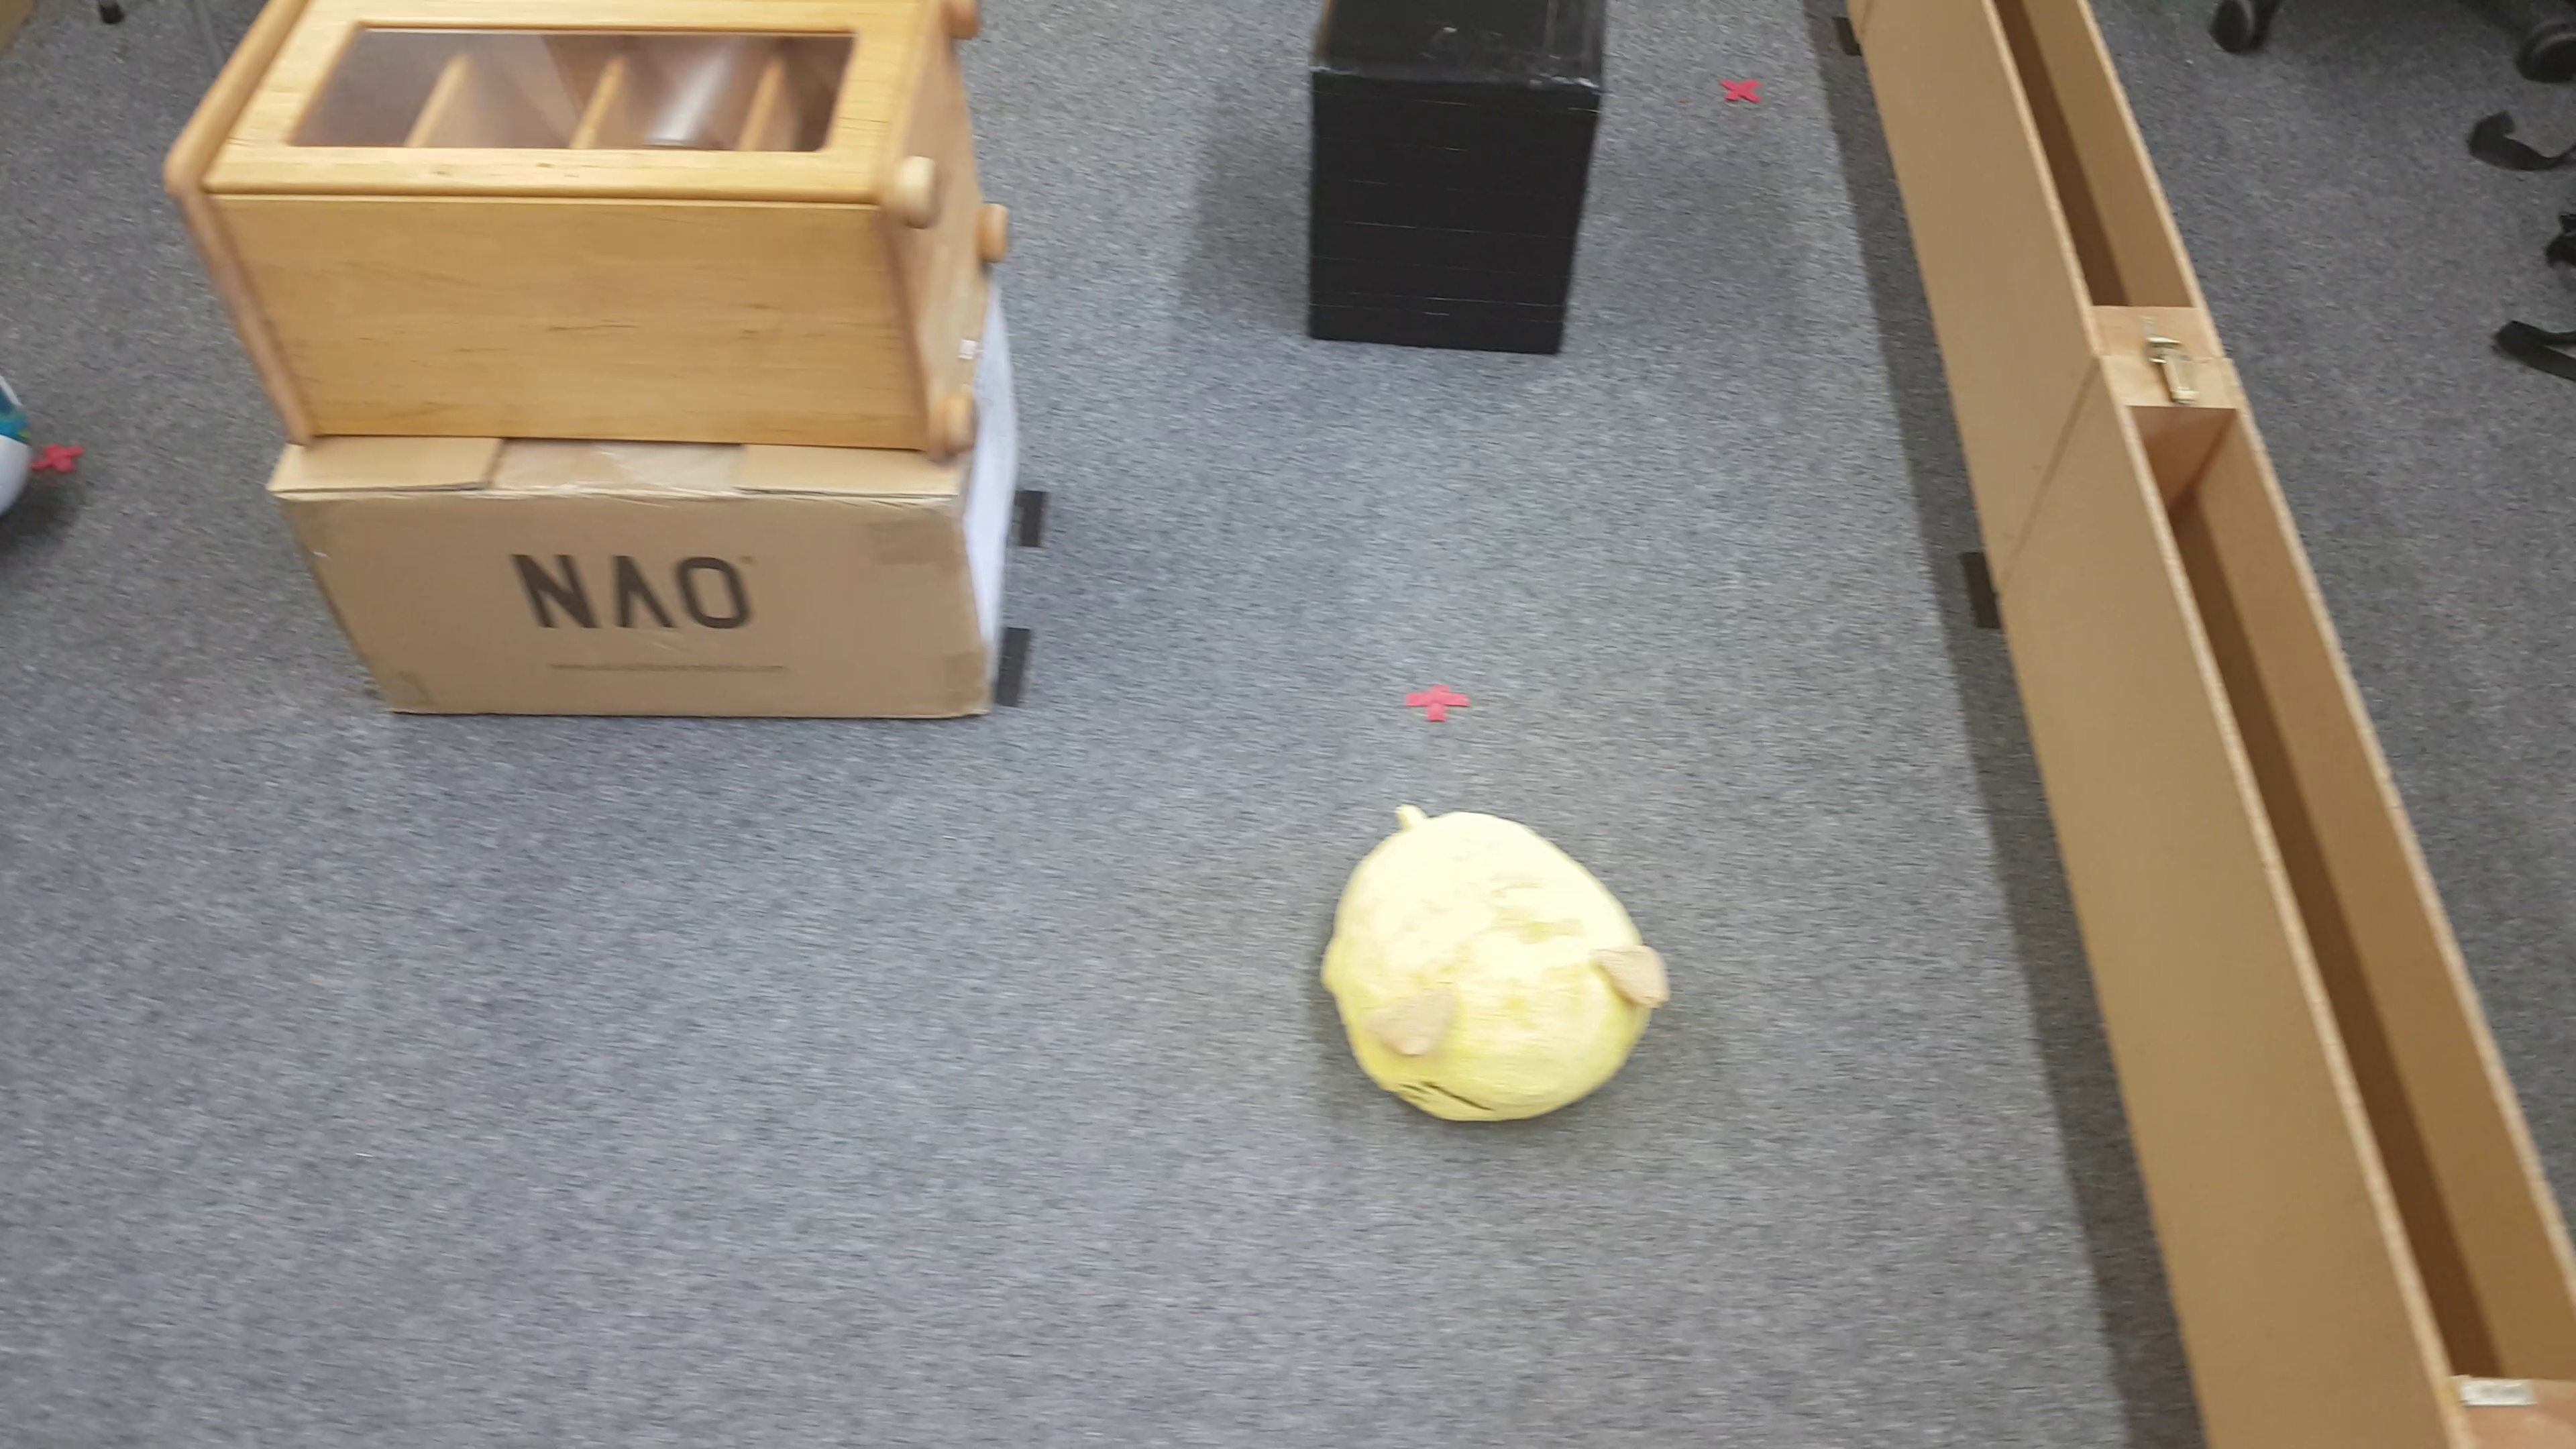grasp: (1329, 796, 1668, 1129)
kick: (4, 366, 39, 548)
push: (1306, 9, 1621, 359)
